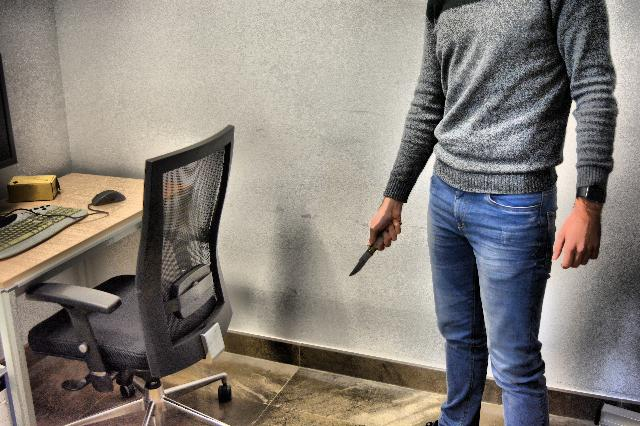knife: (346, 219, 404, 279)
